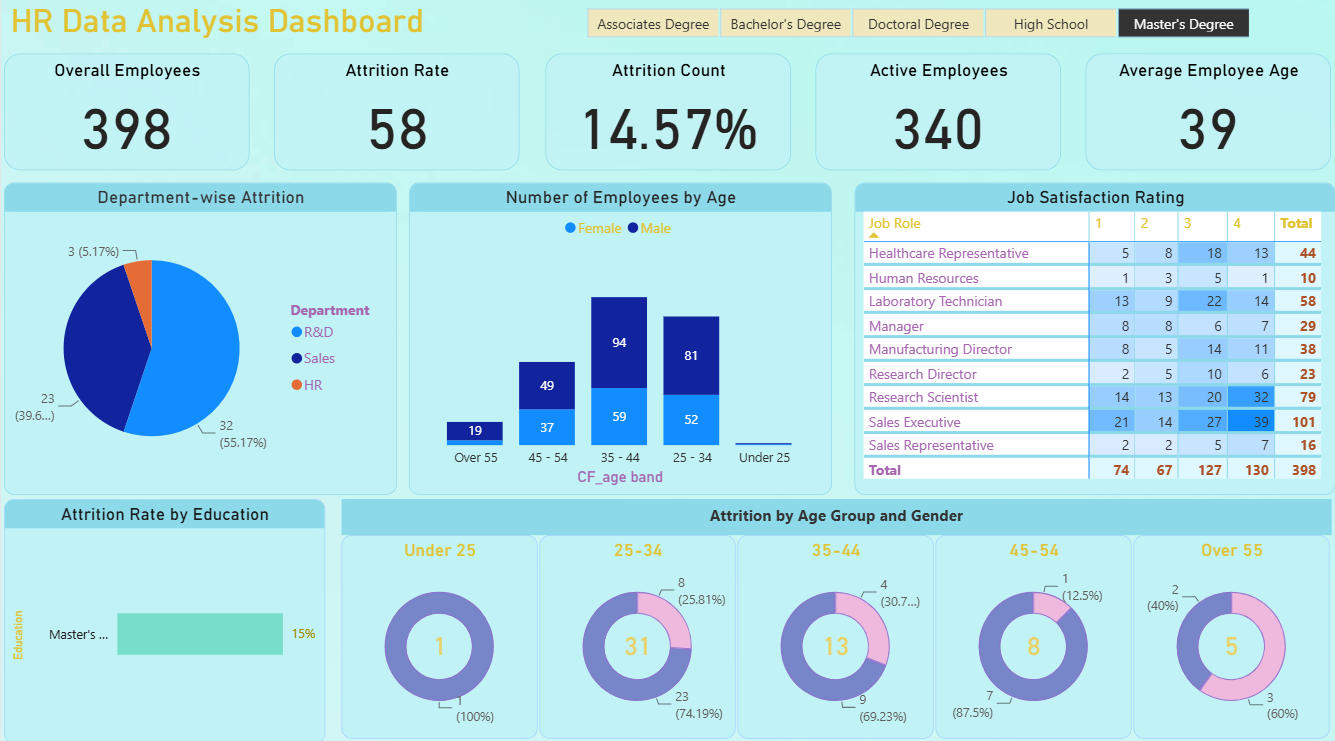

The dashboard page shown, as its layout file describes it:
{"tool":"powerbi","page":{"name":"Page 1","canvas":[1280,720],"ordinal":0},"visuals":[{"type":"card","title":"Overall Employees","fields":{"Values":["Sum(HR data.Employee Count)"]},"box":[3,58.4,235.6,112.2],"z":0},{"type":"card","title":"Attrition Rate","fields":{"Values":["Sum(HR data.Attrition count)"]},"box":[262.2,58.4,235.6,112.2],"z":1000},{"type":"card","title":"Attrition Count","fields":{"Values":["HR data.Attrition Rate"]},"box":[521.3,58.4,235.6,112.2],"z":2000},{"type":"card","title":"Active Employees","fields":{"Values":["HR data.Active Employees"]},"box":[780.5,58.4,235.6,112.2],"z":3000},{"type":"card","title":"Average Employee Age","fields":{"Values":["Avg(HR data.Age)"]},"box":[1039.7,58.4,235.6,112.2],"z":4000},{"type":"pieChart","title":"Department-wise Attrition","fields":{"Y":["Sum(HR data.Attrition count)"],"Category":["HR data.Department"]},"box":[2.9,182.6,376.8,299.1],"z":5000},{"type":"columnChart","title":"Number of Employees by Age","fields":{"Category":["HR data.CF_age band"],"Y":["Sum(HR data.Employee Count)"],"Series":["HR data.Gender"]},"box":[391.2,182.6,405.5,299.1],"z":6000},{"type":"pivotTable","title":"Job Satisfaction Rating","fields":{"Rows":["HR data.Job Role"],"Columns":["HR data.Job Satisfaction"],"Values":["Sum(HR data.Employee Count)"]},"box":[818.3,182.6,461.6,299.1],"z":7000},{"type":"barChart","fields":{"Y":["HR data.Attrition Rate"],"Category":["HR data.Education"]},"box":[2.9,485.6,307.8,234.4],"z":8000},{"type":"donutChart","title":"Under 25","fields":{"Category":["HR data.Gender"],"Y":["Sum(HR data.Attrition count)"],"Series":["HR data.CF_age band"]},"box":[326.5,520.9,188,195],"z":9000},{"type":"textbox","box":[326.5,486.1,949.2,34.5],"z":10000},{"type":"donutChart","title":"25-34","fields":{"Category":["HR data.Gender"],"Y":["Sum(HR data.Attrition count)"],"Series":["HR data.CF_age band"]},"box":[516.4,520.9,188,195],"z":11000},{"type":"donutChart","title":"35-44","fields":{"Category":["HR data.Gender"],"Y":["Sum(HR data.Attrition count)"],"Series":["HR data.CF_age band"]},"box":[706.3,520.9,188,195],"z":12000},{"type":"donutChart","title":"45-54","fields":{"Category":["HR data.Gender"],"Y":["Sum(HR data.Attrition count)"],"Series":["HR data.CF_age band"]},"box":[896.2,520.9,188,195],"z":13000},{"type":"donutChart","title":"Over 55","fields":{"Category":["HR data.Gender"],"Y":["Sum(HR data.Attrition count)"],"Series":["HR data.CF_age band"]},"box":[1086.1,520.9,188,195],"z":14000},{"type":"card","title":"Active Employees","fields":{"Values":["Sum(HR data.Attrition count)"]},"box":[386.8,599.7,67.1,52.5],"z":15000},{"type":"card","title":"Active Employees","fields":{"Values":["Sum(HR data.Attrition count)"]},"box":[576.4,599.7,67.1,52.5],"z":16000},{"type":"card","title":"Active Employees","fields":{"Values":["Sum(HR data.Attrition count)"]},"box":[766.1,599.7,67.1,52.5],"z":17000},{"type":"card","title":"Active Employees","fields":{"Values":["Sum(HR data.Attrition count)"]},"box":[955.8,599.7,67.1,52.5],"z":18000},{"type":"card","title":"Active Employees","fields":{"Values":["Sum(HR data.Attrition count)"]},"box":[1145.4,599.7,69.1,52.5],"z":19000},{"type":"textbox","title":"HR Data Analysis Dashboard","box":[4.9,8.8,504.8,41.8],"z":20000},{"type":"slicer","title":"Active Employees","fields":{"Values":["HR data.Education"]},"box":[536.9,8.8,683.8,41.8],"z":21000}]}

Visuals, with their boxes in screenshot pixels (x1, y1, x2, y2), scaled from the page's 1280x720 canvas onto the 1335x741 screenshot:
"Overall Employees" card: 3, 60, 249, 176
"Attrition Rate" card: 273, 60, 519, 176
"Attrition Count" card: 544, 60, 789, 176
"Active Employees" card: 814, 60, 1060, 176
"Average Employee Age" card: 1084, 60, 1330, 176
"Department-wise Attrition" pieChart: 3, 188, 396, 496
"Number of Employees by Age" columnChart: 408, 188, 831, 496
"Job Satisfaction Rating" pivotTable: 853, 188, 1334, 496
barChart - HR data.Attrition Rate x HR data.Education: 3, 500, 324, 740
"Under 25" donutChart: 341, 536, 537, 737
textbox: 341, 500, 1331, 536
"25-34" donutChart: 539, 536, 735, 737
"35-44" donutChart: 737, 536, 933, 737
"45-54" donutChart: 935, 536, 1131, 737
"Over 55" donutChart: 1133, 536, 1329, 737
"Active Employees" card: 403, 617, 473, 671
"Active Employees" card: 601, 617, 671, 671
"Active Employees" card: 799, 617, 869, 671
"Active Employees" card: 997, 617, 1067, 671
"Active Employees" card: 1195, 617, 1267, 671
"HR Data Analysis Dashboard" textbox: 5, 9, 532, 52
"Active Employees" slicer: 560, 9, 1273, 52
